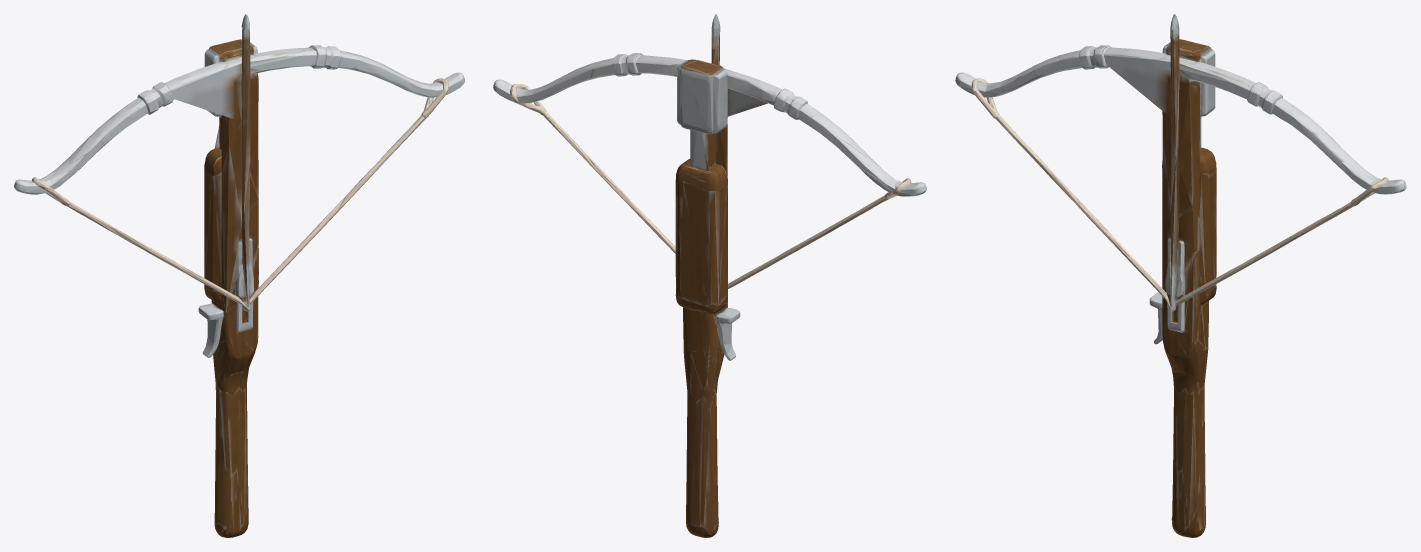
Rendered from crossbow.glb.
The picture shows the model from 3 angles, left to right: view 1: azimuth 30°, elevation 25°; view 2: azimuth 150°, elevation 25°; view 3: azimuth 330°, elevation 25°; orthographic projection. The views are drawn at different scales.
Bounding box in the file's own units: 1.68 × 1.9 × 0.1649.
Materials: 1 (1 with a texture image).
